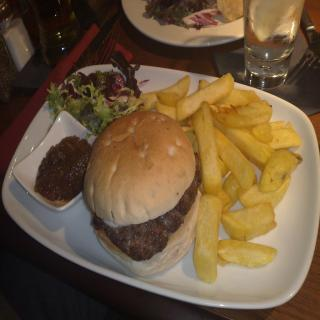French fries: (175, 71, 292, 233)
Hamburger: (86, 111, 210, 280)
